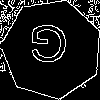G: (27, 24, 70, 73)
